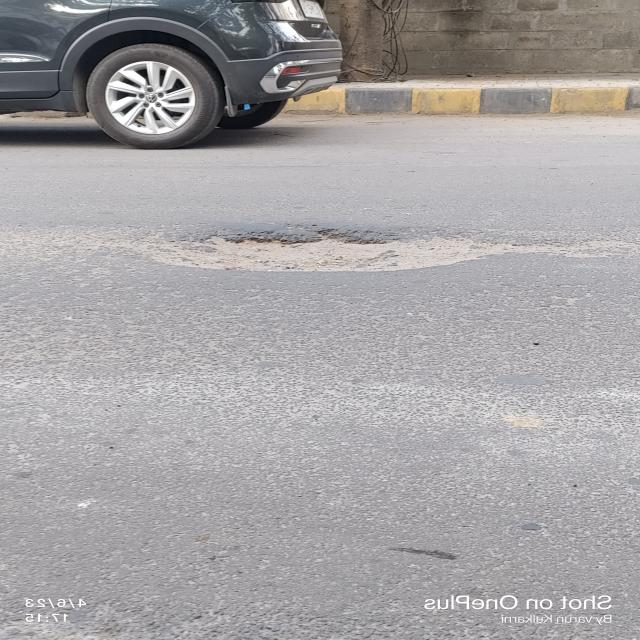potholes: (161, 222, 493, 274)
